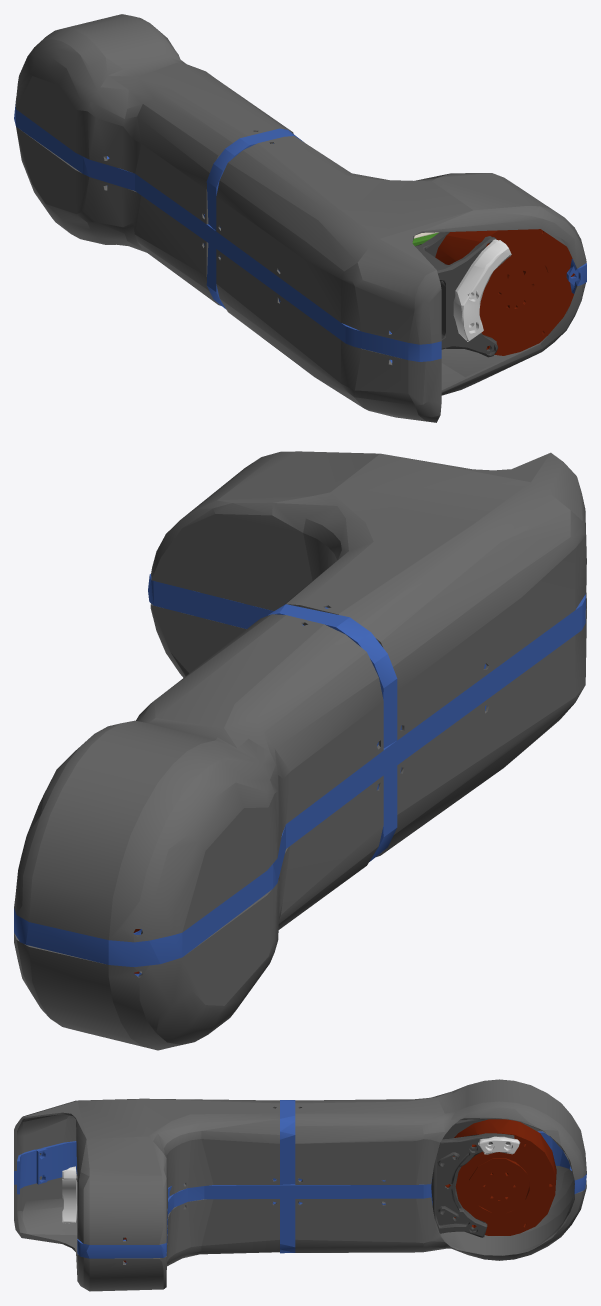
File: left_wrist_yaw.obj
3 views of the same model, one above another, from view 1: azimuth 30°, elevation 25°; view 2: azimuth 150°, elevation 25°; view 3: azimuth 270°, elevation 25° (orthographic). The views are drawn at different scales.
Visible parts, largest first — view 1: Shell_Right, Shell_Left, AK60_6, Back_Seam, N16_23_P05_02_Link_Forearm___Proximal_Mount, N16_23_P05_06_Endstop_Forearm_A, Seam_Left, Seam_Right; view 2: Shell_Right, Shell_Left, Back_Seam, Seam_Left, Front_Seam, Seam_Right; view 3: Shell_Right, Shell_Left, AK60_6, Front_Seam, N16_23_P05_01_Link_Forearm___Distal_Mount, Back_Seam, Seam_Left, Seam_Right, N16_23_P05_06_Endstop_Forearm_A, N16_23_P05_05_Endstop_Wrist.
Boxes of the visible parts, x1,y1,x2,y2 form: Shell_Right: (15,14,586,344); Shell_Left: (16,127,585,422); AK60_6: (435,229,574,355); Back_Seam: (14,104,441,362); N16_23_P05_02_Link_Forearm___Proximal_Mount: (415,232,497,357); N16_23_P05_06_Endstop_Forearm_A: (453,239,511,341); Seam_Left: (203,128,303,230); Seam_Right: (203,243,226,309); Shell_Right: (14,451,586,942); Shell_Left: (14,593,586,1050); Back_Seam: (14,594,585,976); Seam_Left: (267,604,397,747); Front_Seam: (148,574,273,628); Seam_Right: (369,766,397,861); Shell_Right: (14,1079,586,1244); Shell_Left: (14,1165,586,1291); AK60_6: (123,1119,556,1262); Front_Seam: (77,1178,432,1263); N16_23_P05_01_Link_Forearm___Distal_Mount: (431,1119,514,1237); Back_Seam: (14,1131,586,1194); Seam_Left: (280,1100,301,1184); Seam_Right: (273,1178,302,1253); N16_23_P05_06_Endstop_Forearm_A: (62,1166,77,1223); N16_23_P05_05_Endstop_Wrist: (478,1136,520,1154).
Size of the model in its own units: 0.165 by 0.116 by 0.379.
